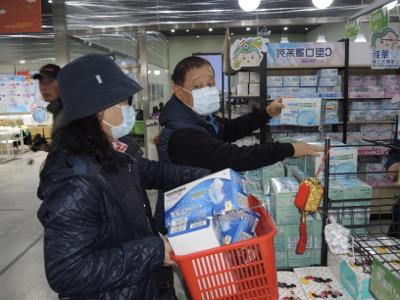with_mask: (182, 74, 221, 117), (106, 96, 136, 141)
without_mask: (38, 77, 59, 103)
